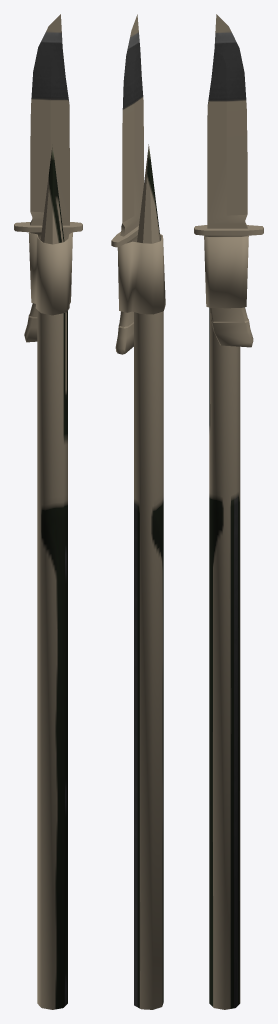
File: PlankSpearHuntingKnife.fbx
3 renders of one model, left to right at view 1: azimuth 90°, elevation 25°; view 2: azimuth 150°, elevation 25°; view 3: azimuth 270°, elevation 25°, orthographic.
Visible parts, largest first — view 1: Plank Spear.002; view 2: Plank Spear.002; view 3: Plank Spear.002.
Part boxes in pixels (left/top/right/bottom): Plank Spear.002: left=14, top=14, right=82, bottom=1009; Plank Spear.002: left=111, top=14, right=165, bottom=1009; Plank Spear.002: left=194, top=14, right=263, bottom=1009.
Bounding box in the file's own units: 0.0332 × 0.8478 × 0.0538.
